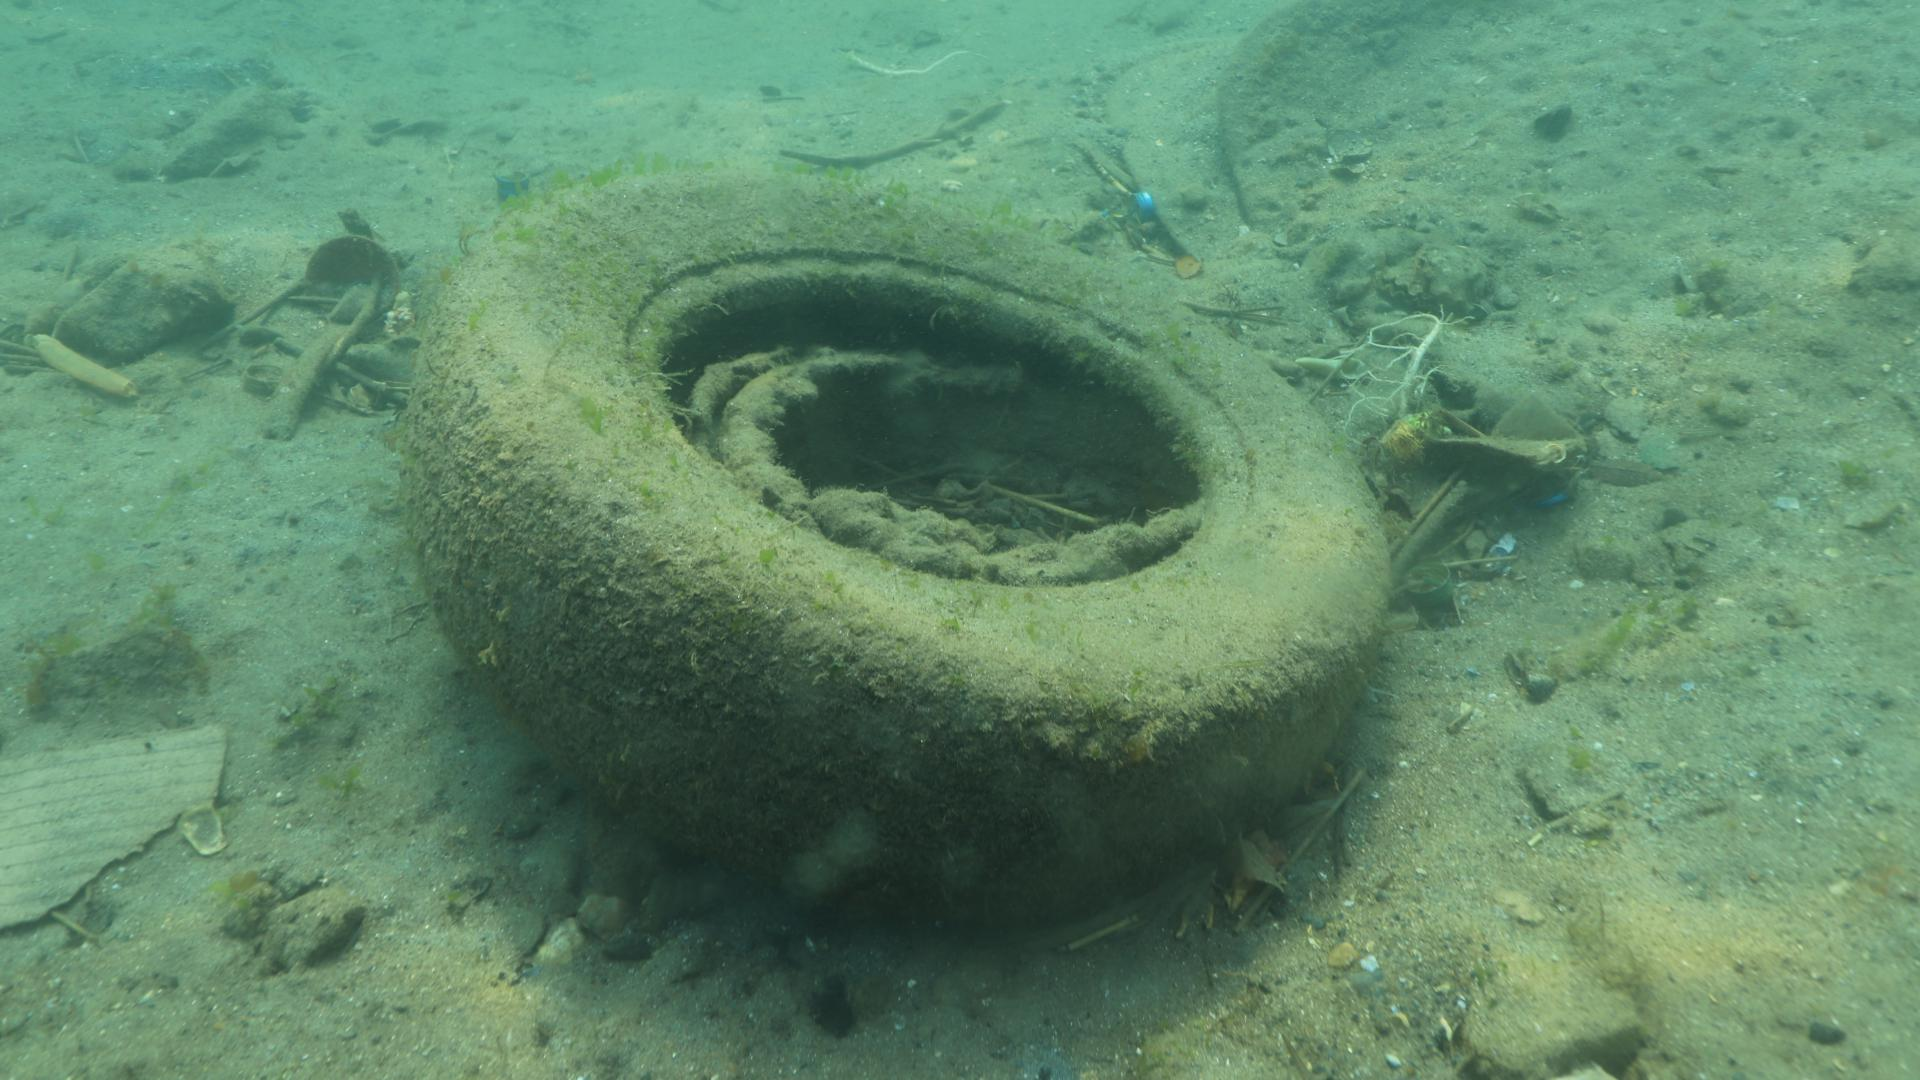tire: (405, 166, 1395, 935)
